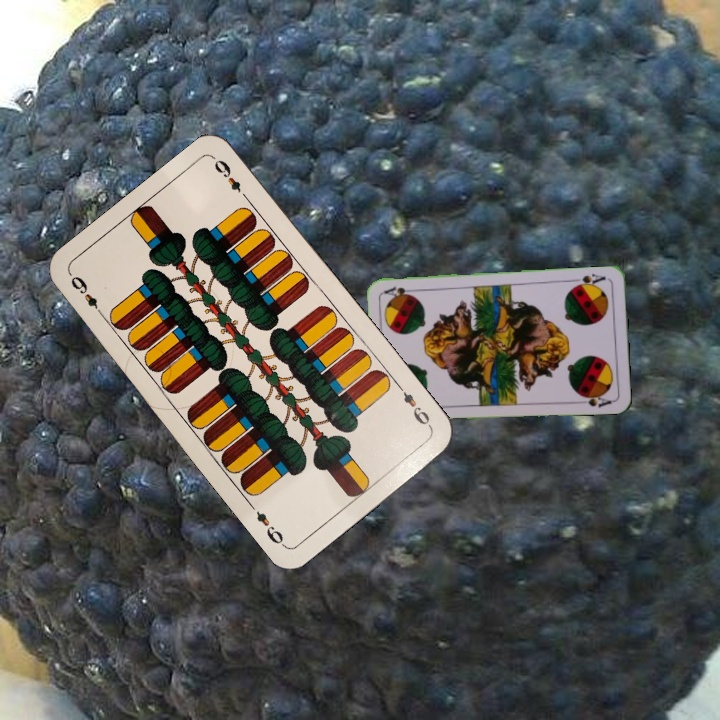E9: (393, 380, 435, 431), (66, 271, 108, 321)
SA: (569, 270, 608, 290)
